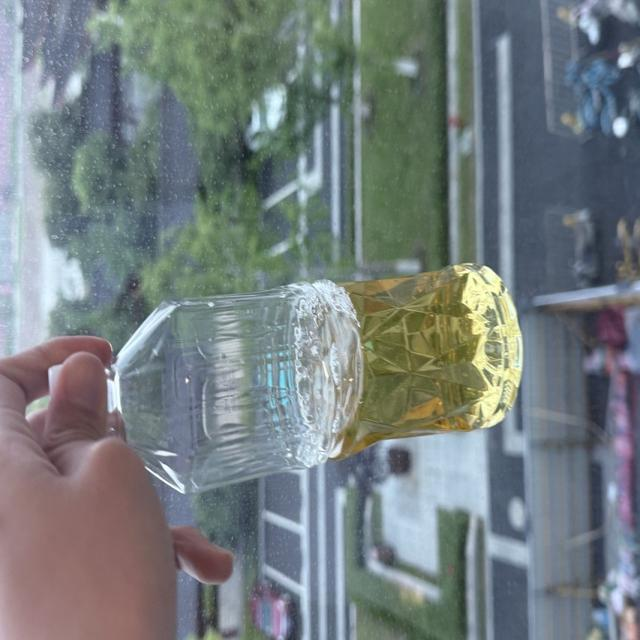medium: (101, 264, 522, 493)
